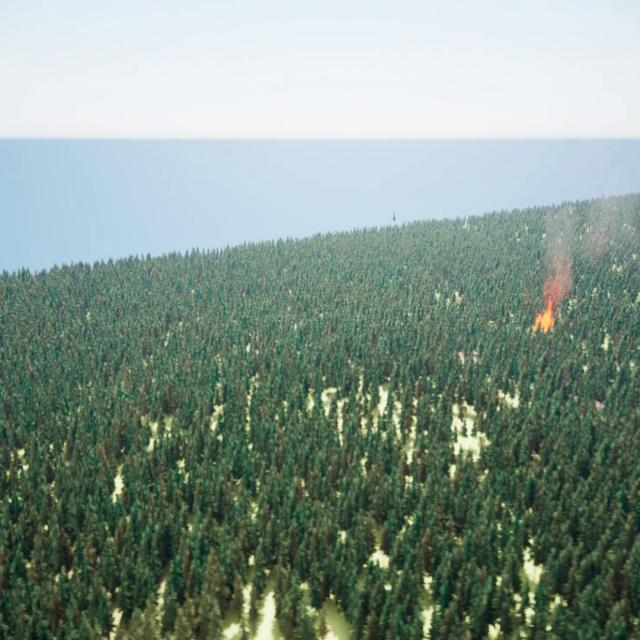fire: (532, 300, 552, 336)
smoke: (543, 198, 606, 300)
